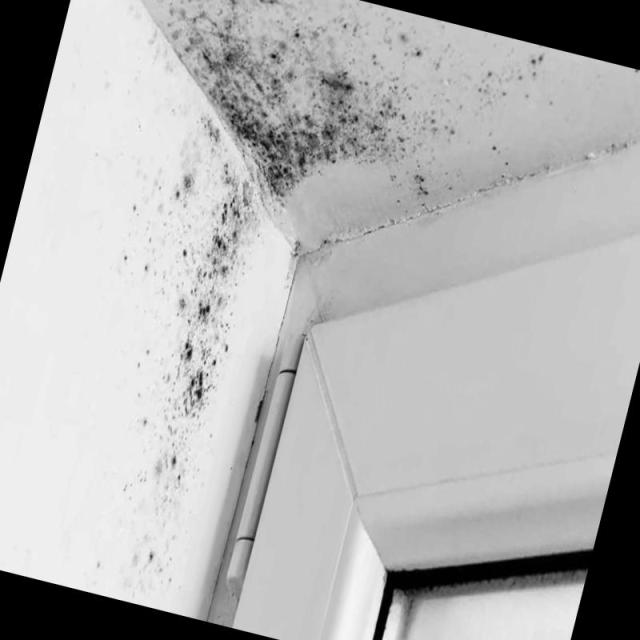stain marks: (105, 5, 558, 402)
